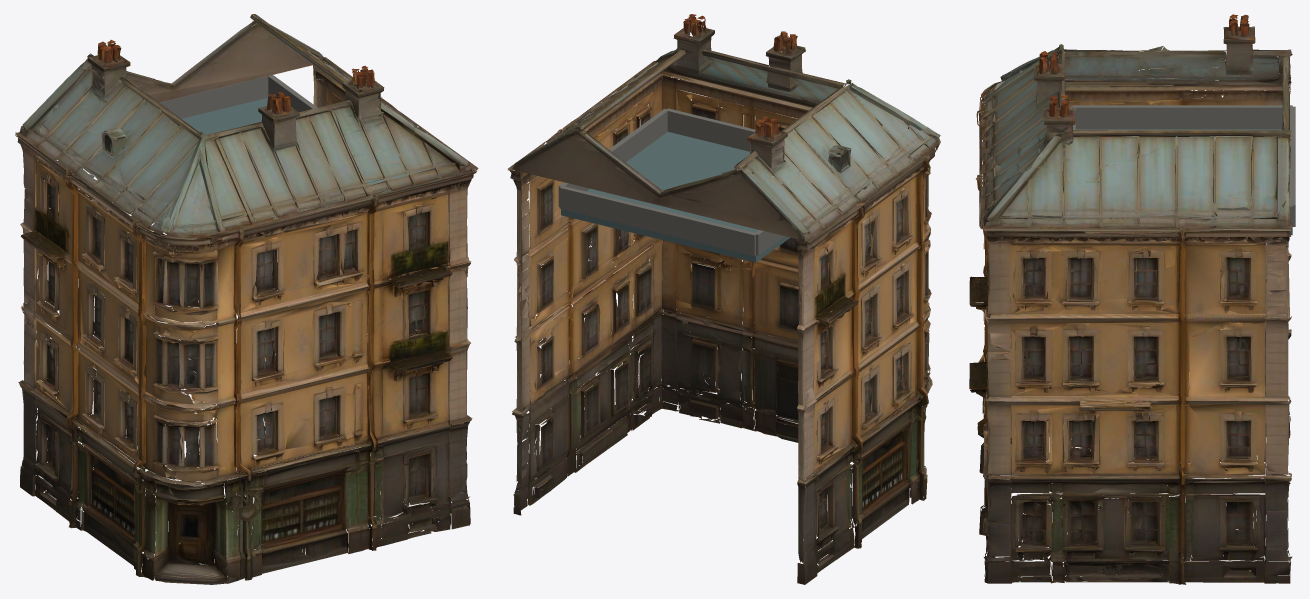
Rendered from ch03_shop_pharmacy_corner.glb.
3 views of the same model, side by side, from view 1: azimuth 30°, elevation 25°; view 2: azimuth 150°, elevation 25°; view 3: azimuth 270°, elevation 25° (orthographic). The views are drawn at different scales.
Visible parts, largest first — view 1: material, courtyard parapet north, roof courtyard floor, courtyard parapet east; view 2: material, roof courtyard floor, courtyard parapet north, courtyard parapet south, courtyard parapet east; view 3: material, courtyard parapet west, courtyard parapet north, roof courtyard floor.
Boxes of the visible parts, bbox=[...] form: material: bbox=[15, 14, 478, 584]; courtyard parapet north: bbox=[159, 75, 269, 118]; roof courtyard floor: bbox=[122, 98, 267, 228]; courtyard parapet east: bbox=[268, 75, 317, 118]; material: bbox=[507, 14, 940, 584]; roof courtyard floor: bbox=[561, 132, 799, 262]; courtyard parapet north: bbox=[559, 186, 756, 255]; courtyard parapet south: bbox=[665, 108, 839, 156]; courtyard parapet east: bbox=[558, 109, 667, 206]; material: bbox=[969, 14, 1292, 584]; courtyard parapet west: bbox=[1072, 105, 1292, 129]; courtyard parapet north: bbox=[1290, 106, 1295, 226]; roof courtyard floor: bbox=[1075, 129, 1292, 235].
Size of the model in its own units: 0.659 by 0.8669 by 0.5693.
3 materials, 1 textured.
